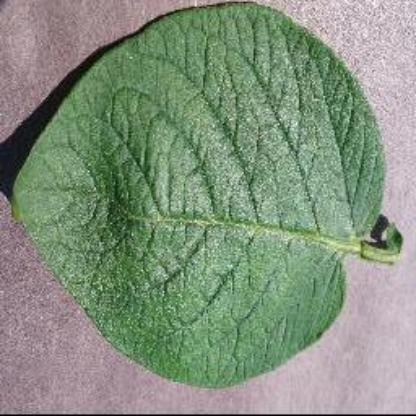Healthy-plant: (11, 0, 406, 394)
